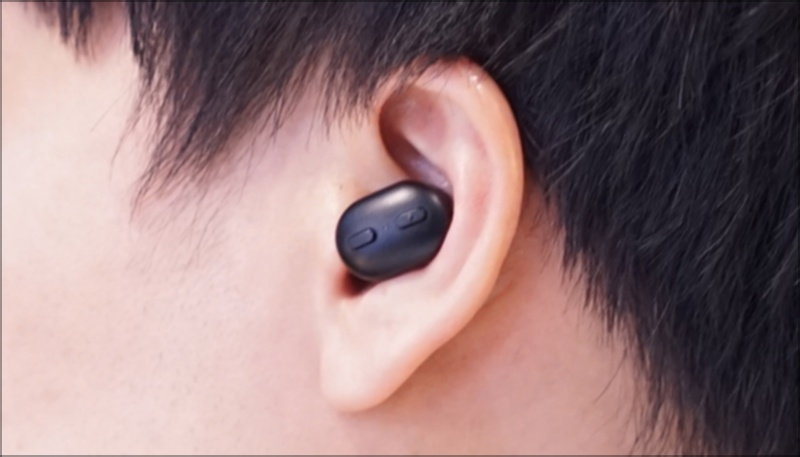earphone: (314, 52, 526, 408)
